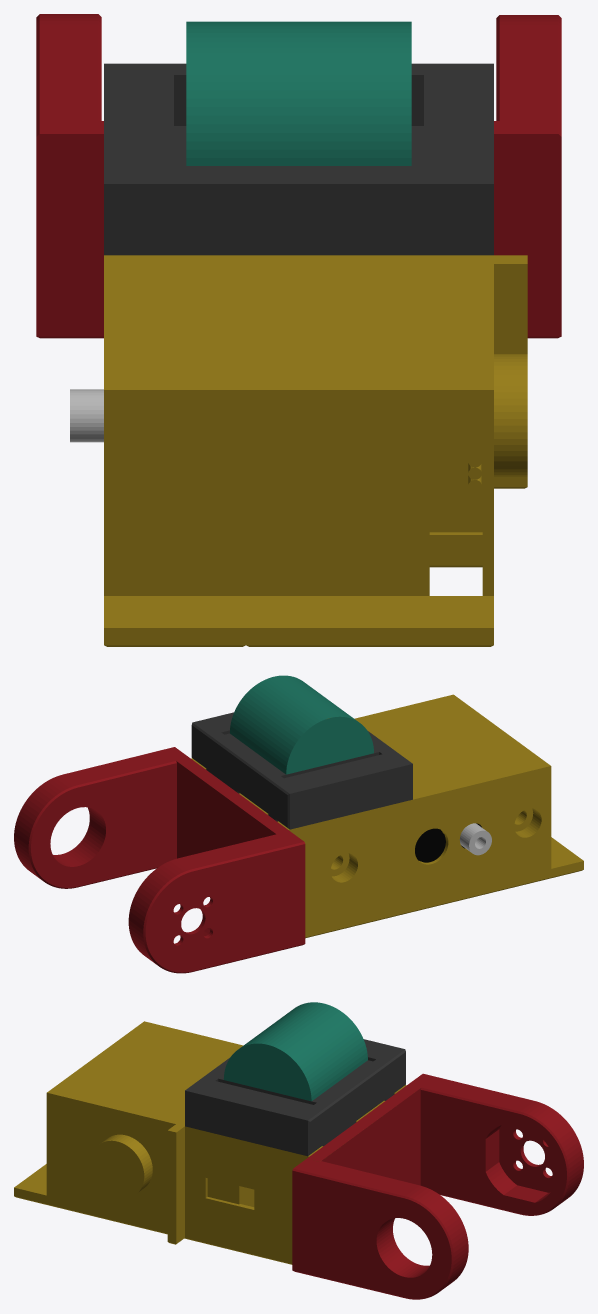
Rendered from finger_link321.dae.
3 renders of one model, top to bottom at view 1: azimuth 30°, elevation 25°; view 2: azimuth 150°, elevation 25°; view 3: azimuth 270°, elevation 25°, orthographic. The views are drawn at different scales.
Parts seen in each view (by area): view 1: finger_link321.001; view 2: finger_link321.001; view 3: finger_link321.001.
Boxes of the visible parts, left/top/right/bottom form: finger_link321.001: left=36, top=14, right=561, bottom=646; finger_link321.001: left=14, top=675, right=583, bottom=973; finger_link321.001: left=14, top=1002, right=583, bottom=1299.
Bounding box in the file's own units: 81.74 × 101 × 38.14.
